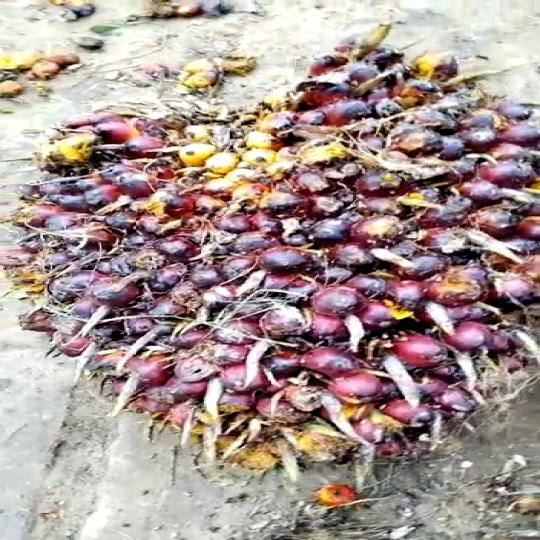kurang masak: (0, 17, 540, 478)
